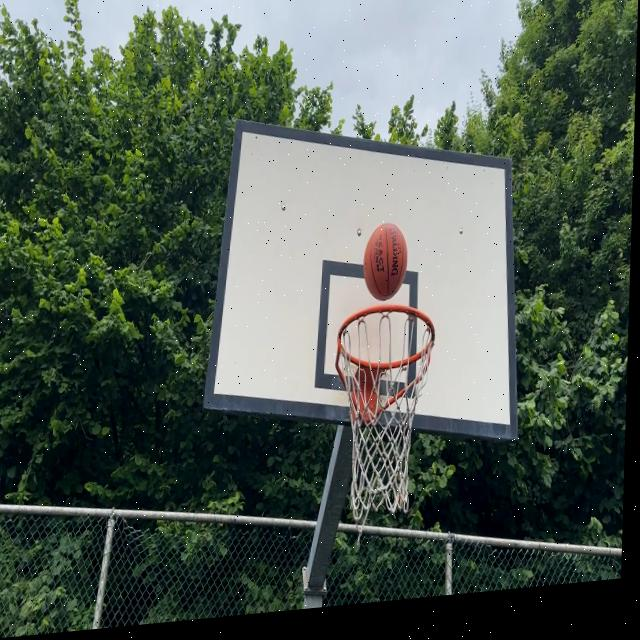Basketball: (360, 223, 410, 306)
